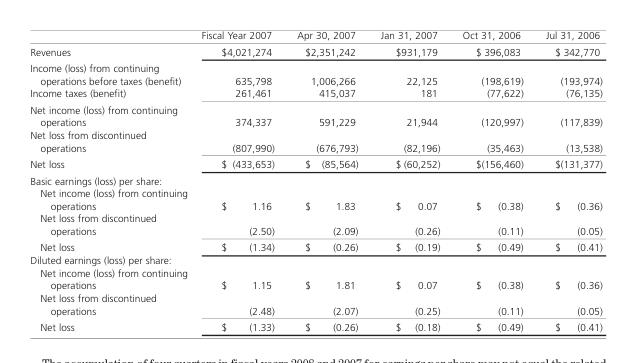table: (29, 29, 601, 332)
table column: (29, 29, 193, 332), (193, 29, 284, 332), (284, 29, 368, 332), (450, 29, 533, 332), (368, 29, 450, 332), (533, 29, 601, 332)
table column header: (29, 29, 601, 43)
table projected row header: (29, 171, 601, 186), (29, 253, 601, 265)
table row: (29, 59, 601, 86), (29, 101, 601, 128), (29, 128, 601, 155), (29, 211, 601, 238), (29, 291, 601, 318), (29, 265, 601, 291), (29, 186, 601, 211), (29, 43, 601, 59), (29, 155, 601, 171), (29, 86, 601, 101), (29, 171, 601, 186), (29, 238, 601, 253), (29, 29, 601, 43), (29, 318, 601, 332), (29, 253, 601, 265)
